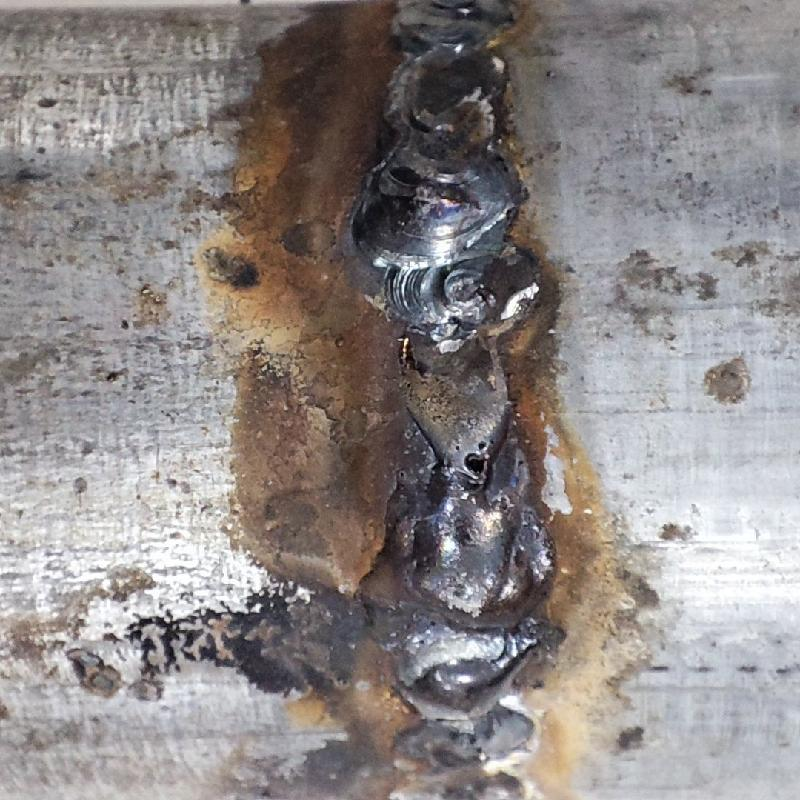Not_fully_soldered: (385, 273, 528, 490)
Surface_pores: (448, 435, 495, 484)
Weld: (377, 491, 565, 728)
wrong_size: (353, 1, 520, 270)
